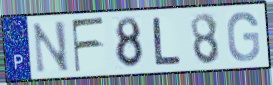8: (189, 11, 221, 66), (113, 15, 145, 70)
F: (70, 16, 106, 75)
G: (225, 10, 262, 63)
L: (151, 16, 183, 67)
N: (31, 19, 71, 75)
